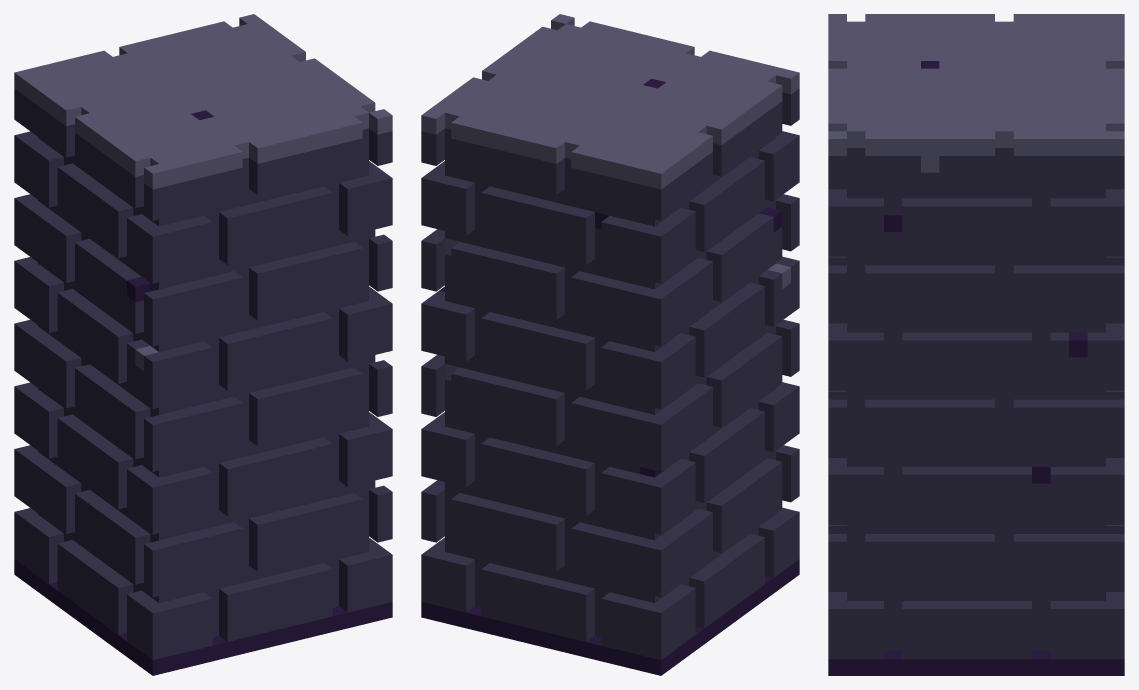
Rendered from wall_block.obj.
3 views of the same model, side by side, from view 1: azimuth 30°, elevation 25°; view 2: azimuth 150°, elevation 25°; view 3: azimuth 270°, elevation 25° (orthographic). The views are drawn at different scales.
Parts seen in each view (by area): view 1: wall_block; view 2: wall_block; view 3: wall_block.
Part boxes in pixels (<box>): wall_block: <box>14,14,392,675</box>; wall_block: <box>421,14,799,675</box>; wall_block: <box>828,14,1124,675</box>.
Size of the model in its own units: 1 by 2 by 1.
1 material, 1 textured.
